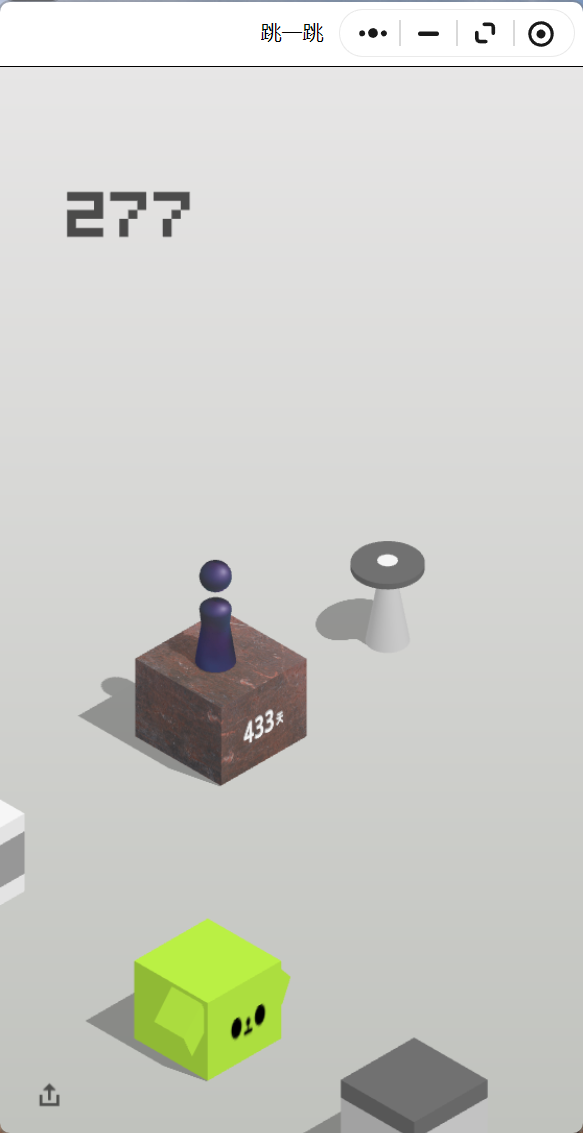piece: (200, 560, 232, 668)
target: (350, 540, 426, 584)
